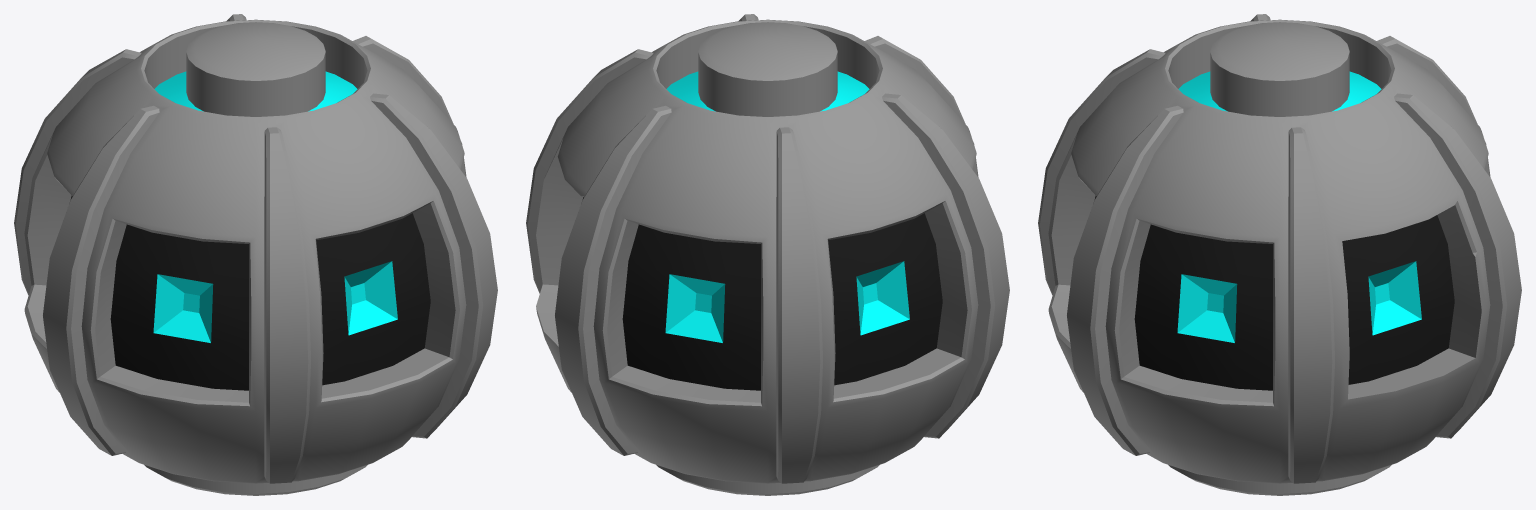
Rendered from scifisphere.FBX.
The picture shows the model from 3 angles, left to right: view 1: azimuth 30°, elevation 25°; view 2: azimuth 150°, elevation 25°; view 3: azimuth 270°, elevation 25°; orthographic projection.
Parts seen in each view (by area): view 1: Scifisphere; view 2: Scifisphere; view 3: Scifisphere.
Part boxes in pixels (x1=…): Scifisphere: x1=14, y1=14, x2=497, y2=495; Scifisphere: x1=526, y1=14, x2=1009, y2=495; Scifisphere: x1=1038, y1=14, x2=1521, y2=495.
Size of the model in its own units: 53.35 by 50.34 by 50.77.
